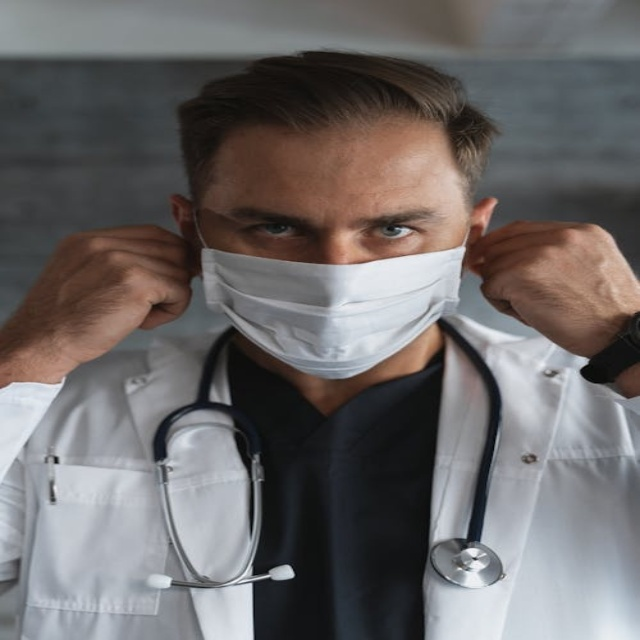Mascara: (197, 213, 468, 378)
Sin_gafas: (228, 205, 426, 248)
Sin_guantes: (6, 216, 197, 381), (465, 205, 630, 363)
